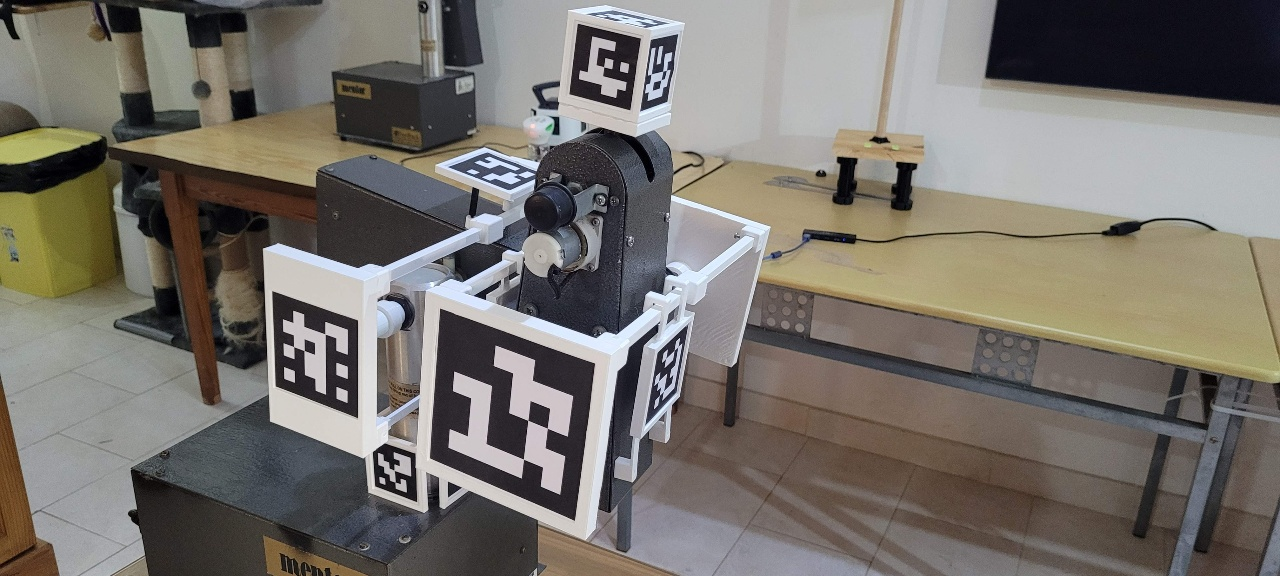Robot: (261, 4, 772, 542)
